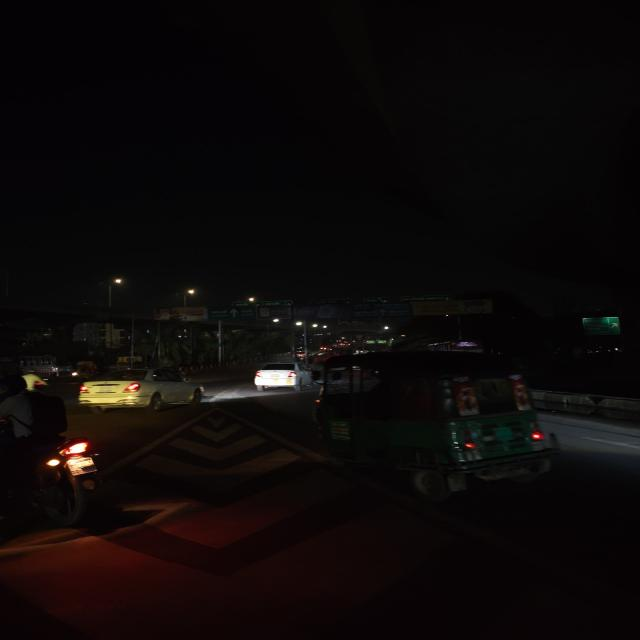car: (74, 364, 208, 414), (250, 358, 310, 394)
cng: (344, 347, 563, 507)
motorcycle: (0, 368, 107, 532)
